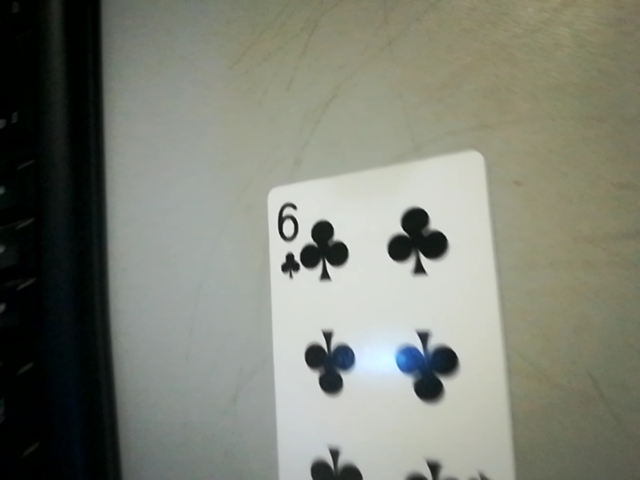mh 6: (265, 195, 304, 278)
